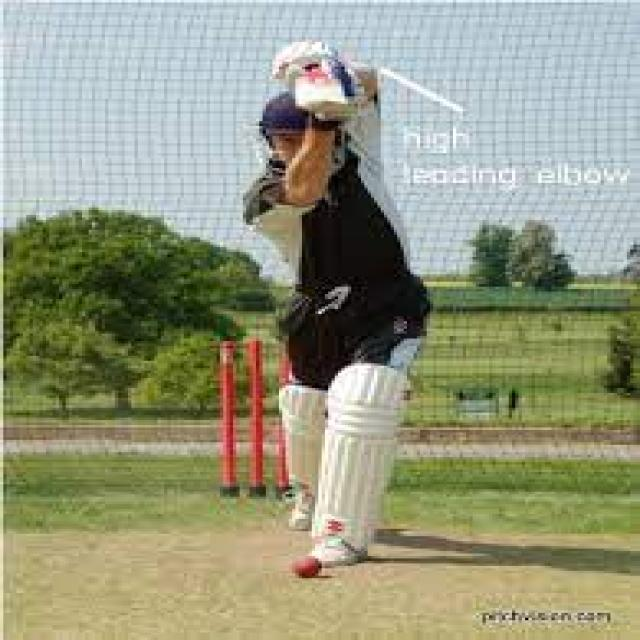toe: (292, 85, 365, 137)
